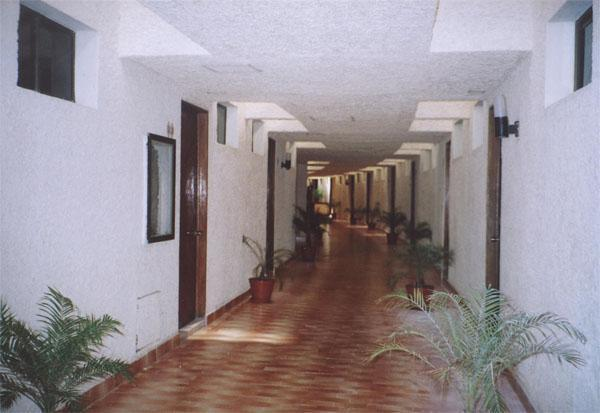Matera: (387, 289, 573, 408), (7, 299, 124, 410), (394, 240, 458, 311), (241, 236, 295, 304), (290, 190, 326, 264), (398, 222, 437, 255), (378, 212, 404, 248)
Puerta: (180, 99, 204, 318), (489, 115, 500, 294)
